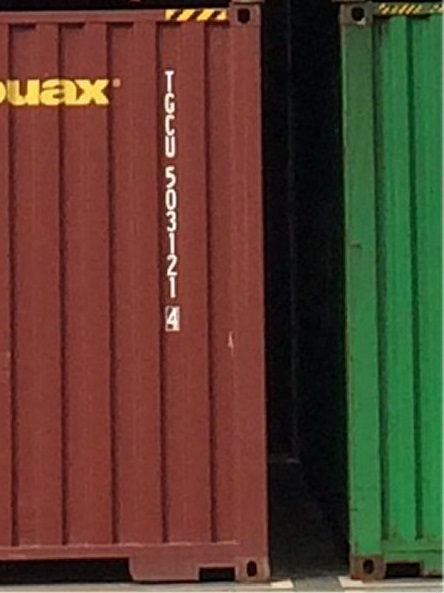container_no_door: (3, 5, 261, 585)
